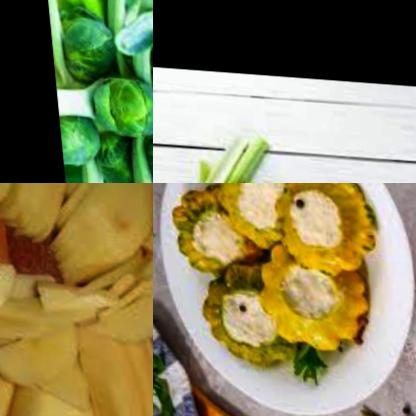brus capusta: (46, 6, 153, 183)
celery: (157, 113, 278, 183)
potato: (0, 183, 153, 416)
squash-patisson: (245, 236, 366, 356), (257, 183, 379, 277), (186, 261, 294, 362), (159, 183, 243, 268), (207, 183, 312, 248)
